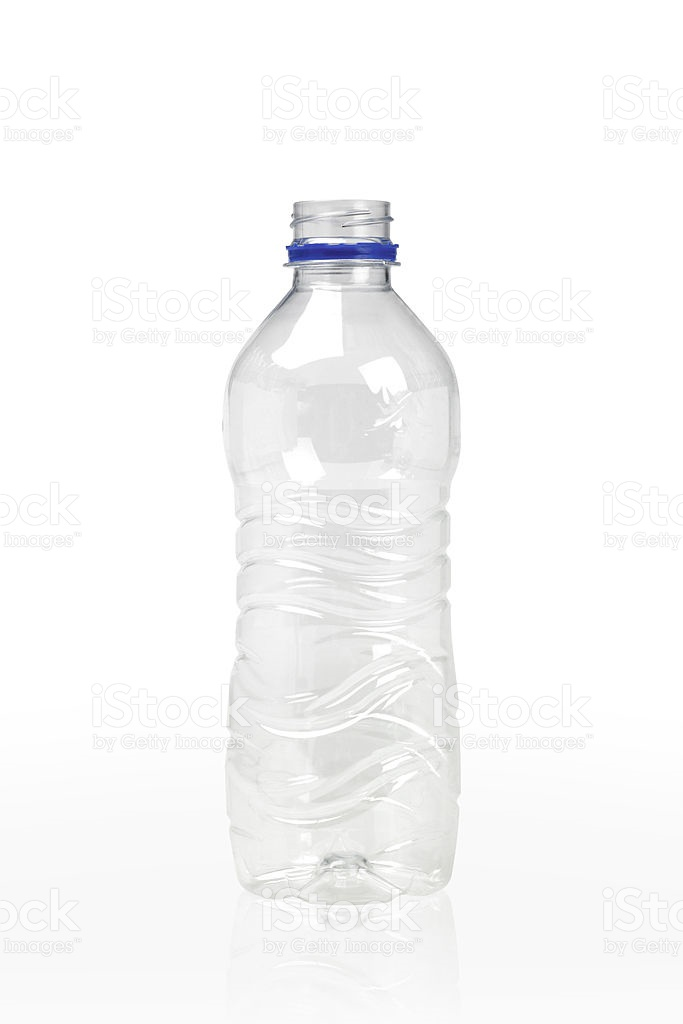emptybottle: (223, 199, 462, 902)
